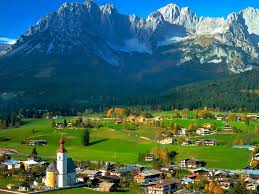field: (8, 114, 259, 190)
mountain: (11, 12, 258, 111)
vilage: (28, 154, 220, 191)
